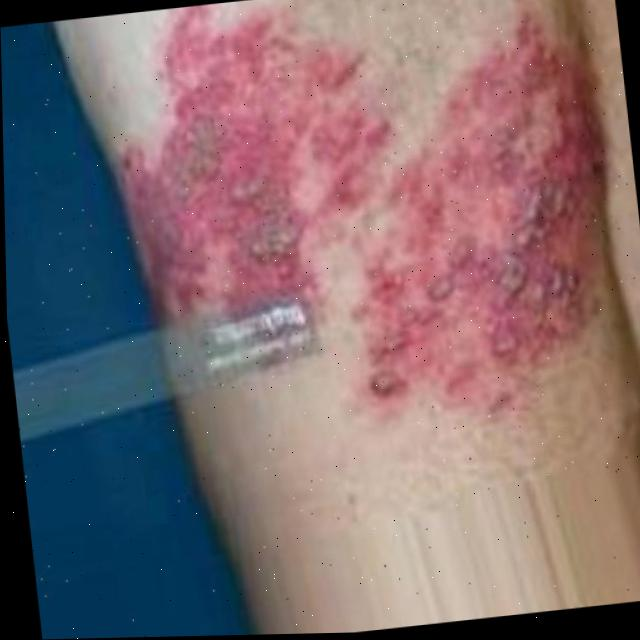Shingles: (74, 0, 626, 439)
